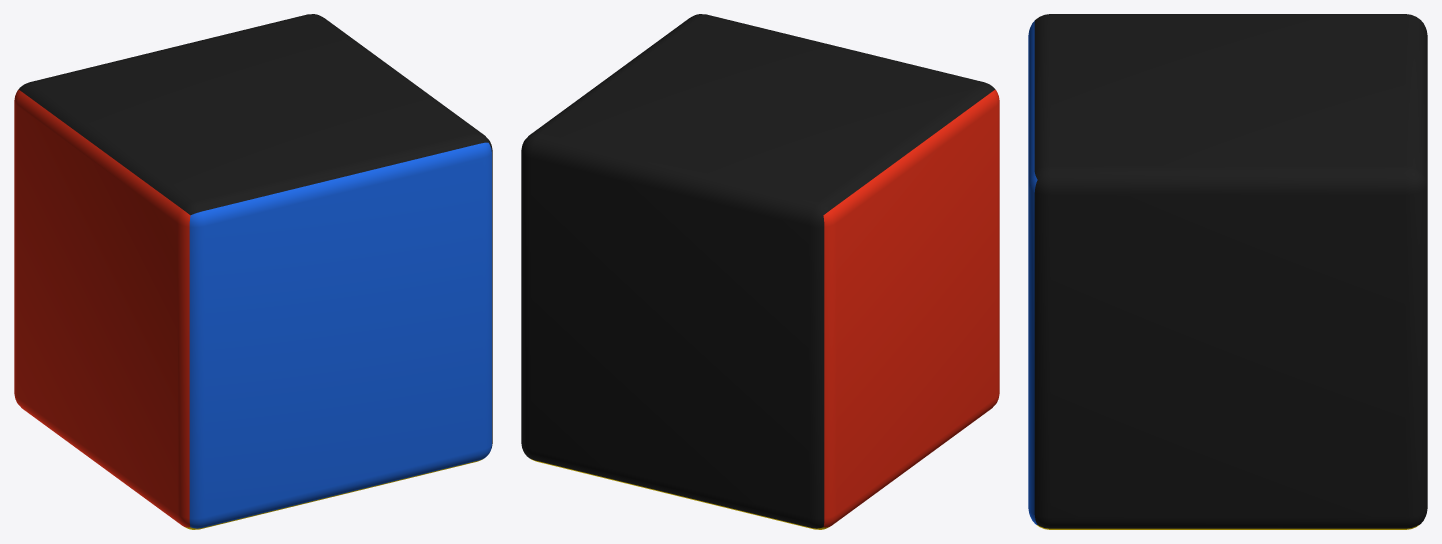
The model's file is yrb_corner.glb.
3 views of the same model, side by side, from view 1: azimuth 30°, elevation 25°; view 2: azimuth 150°, elevation 25°; view 3: azimuth 270°, elevation 25° (orthographic). The views are drawn at different scales.
Parts seen in each view (by area): view 1: Cube.019; view 2: Cube.019; view 3: Cube.019.
Boxes of the visible parts, x1=… form: Cube.019: x1=14, y1=14, x2=492, y2=529; Cube.019: x1=521, y1=14, x2=999, y2=529; Cube.019: x1=1028, y1=14, x2=1427, y2=529.
Size of the model in its own units: 2 by 2 by 2.
